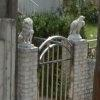Statue: (17, 15, 40, 55)
